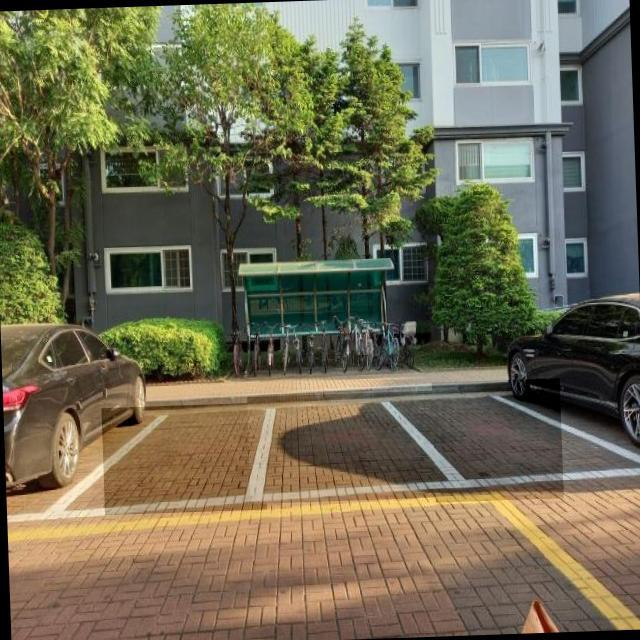empty: (247, 389, 441, 504), (101, 402, 266, 515), (432, 378, 564, 502)
